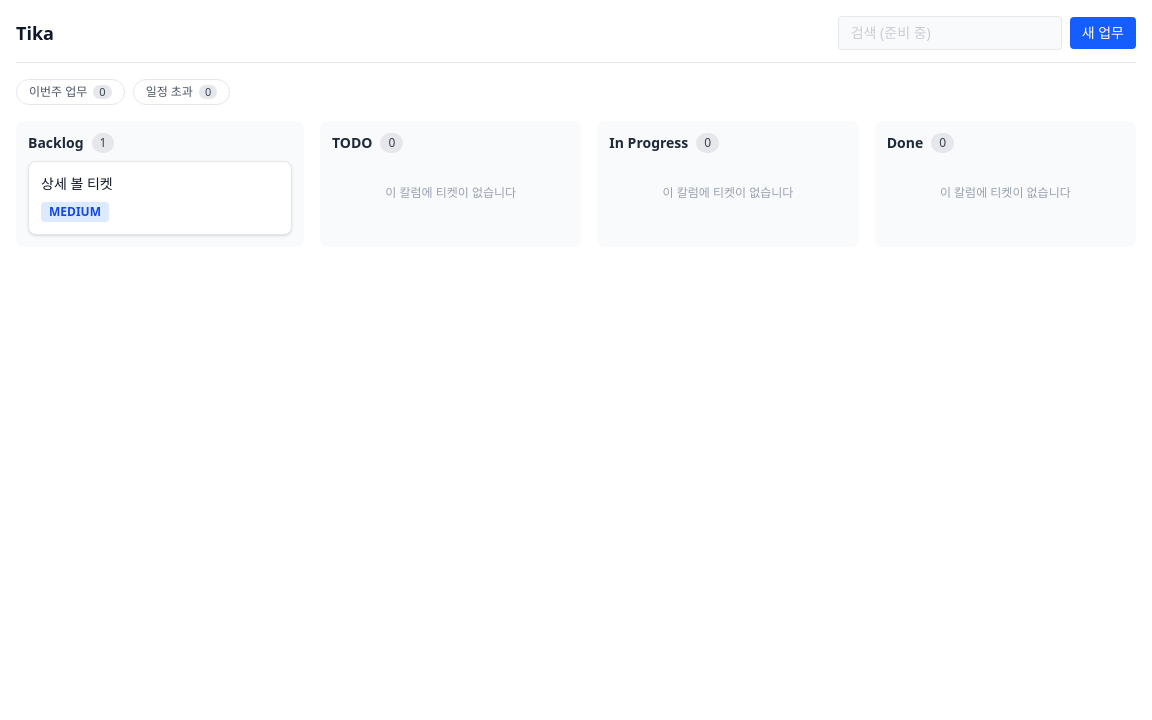
Test: BoardContainer › 카드를 클릭하면 상세 모달이 열린다
Click the button with test id "ticket-card": [77, 184] box [28,161,292,235]
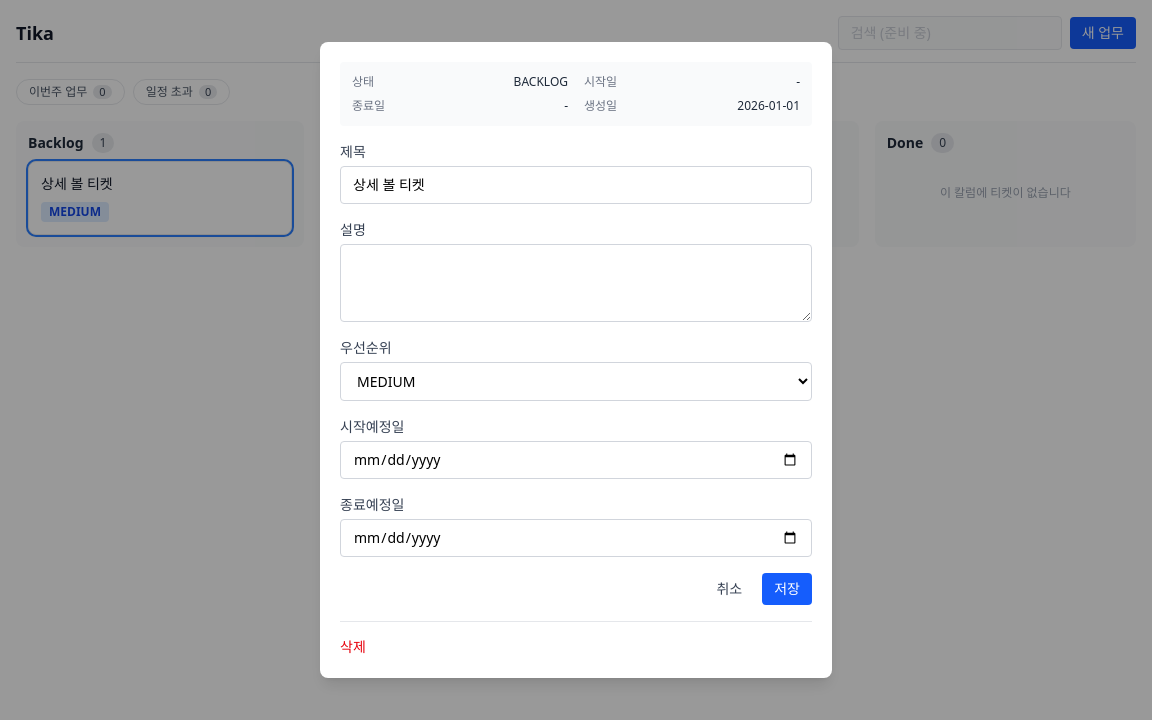
Expected: the field labelled "제목" holds "상세 볼 티켓", [340,166,812,204]
